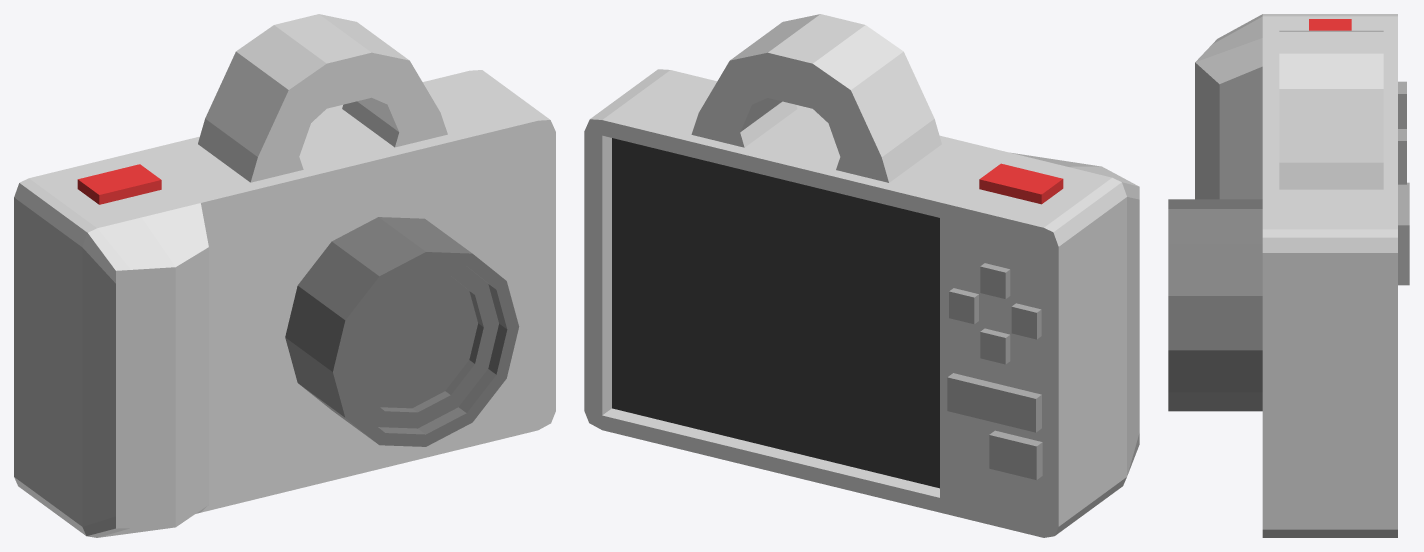
File: Camera.fbx
3 renders of one model, left to right at view 1: azimuth 30°, elevation 25°; view 2: azimuth 150°, elevation 25°; view 3: azimuth 270°, elevation 25°, orthographic.
Parts seen in each view (by area): view 1: Camera; view 2: Camera; view 3: Camera.
Part boxes in pixels (x1,y1,x2,y2): Camera: [14, 14, 555, 537]; Camera: [584, 14, 1139, 537]; Camera: [1168, 14, 1409, 537].
Bounding box in the file's own units: 800 × 662 × 357.
1 material, 1 textured.
